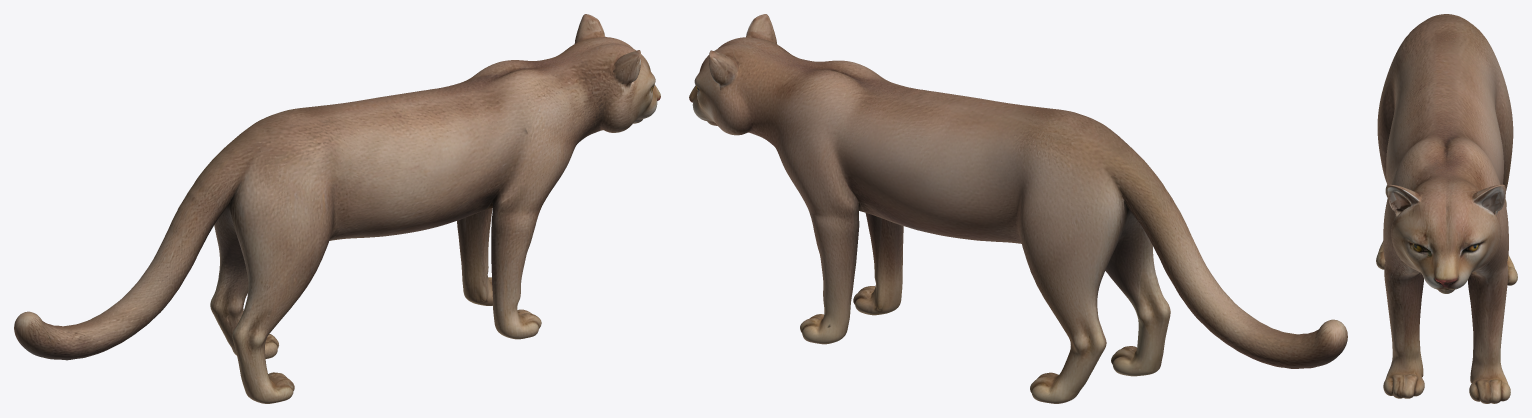
Rendered from Yaguarundí.fbx.
The picture shows the model from 3 angles, left to right: view 1: azimuth 30°, elevation 25°; view 2: azimuth 150°, elevation 25°; view 3: azimuth 270°, elevation 25°; orthographic projection. The views are drawn at different scales.
Visible parts, largest first — view 1: Mesh_0; view 2: Mesh_0; view 3: Mesh_0.
Boxes of the visible parts, x1=… form: Mesh_0: x1=14, y1=14, x2=660, y2=403; Mesh_0: x1=689, y1=14, x2=1347, y2=403; Mesh_0: x1=1376, y1=14, x2=1517, y2=403.
Bounding box in the file's own units: 200 × 76.7 × 37.
Materials: 1 (1 with a texture image).
